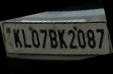character: (21, 28, 32, 48), (47, 28, 58, 48), (56, 28, 66, 49), (12, 28, 22, 48), (76, 29, 86, 48), (30, 27, 39, 48), (95, 28, 104, 49), (38, 28, 47, 48), (86, 29, 95, 49), (67, 29, 76, 48)
